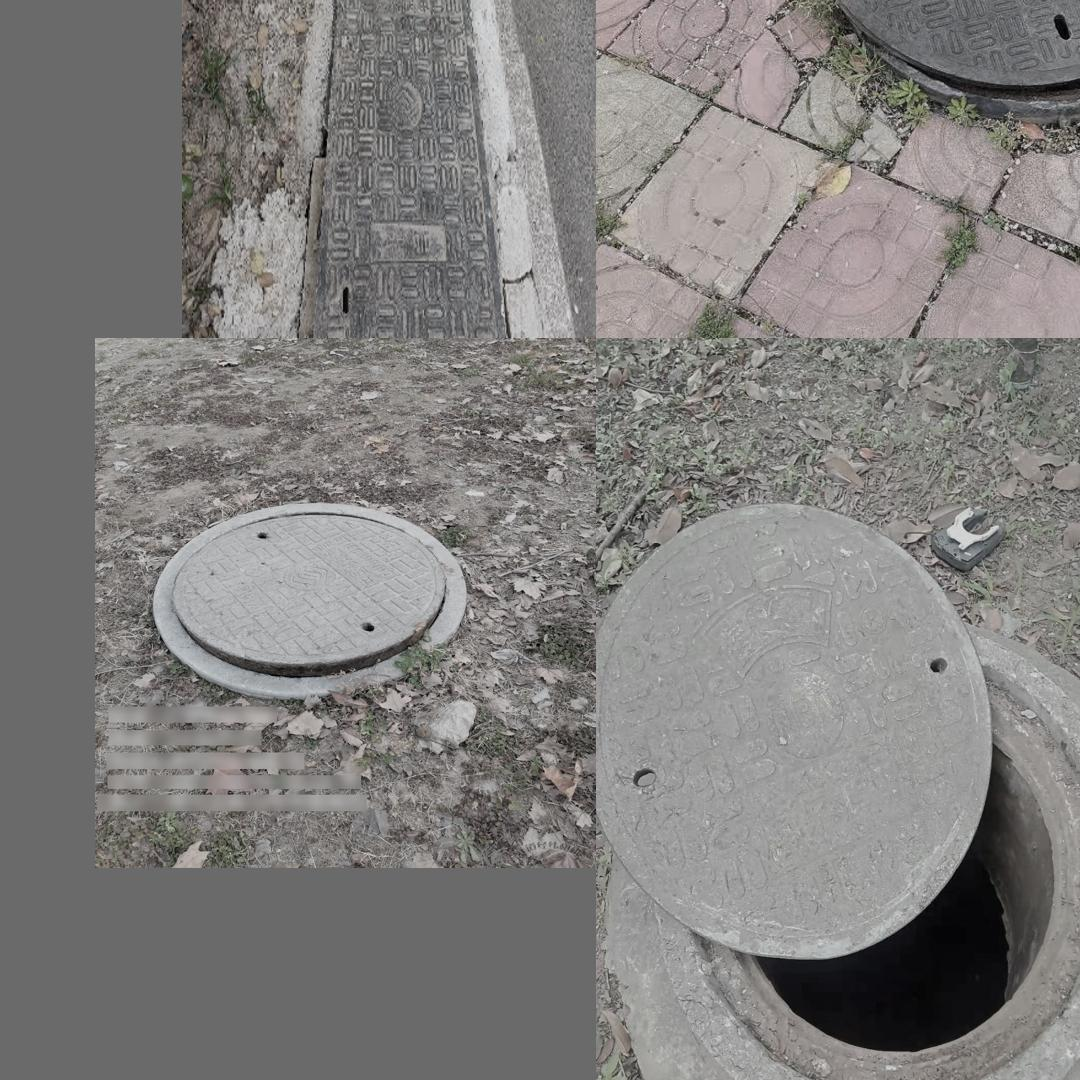uncovered: (597, 500, 1080, 1080), (295, 0, 516, 338), (155, 501, 468, 697), (804, 0, 1080, 120)
